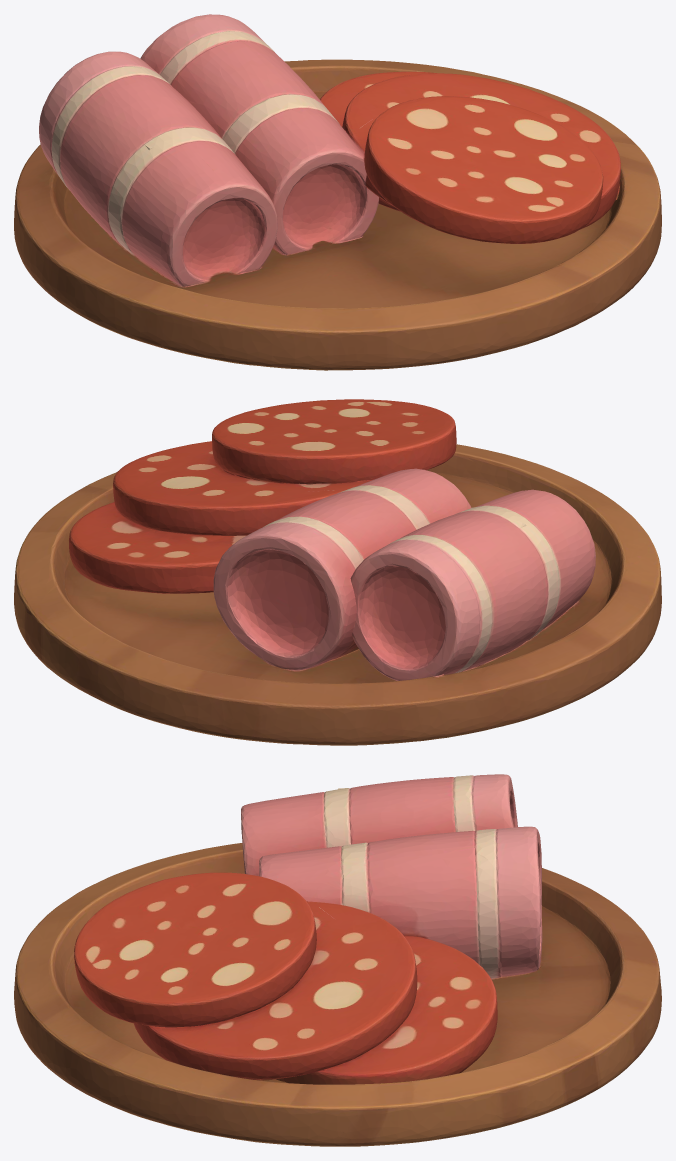
The model's file is meal_1.glb.
The picture shows the model from 3 angles, top to bottom: view 1: azimuth 30°, elevation 25°; view 2: azimuth 150°, elevation 25°; view 3: azimuth 270°, elevation 25°; orthographic projection.
Parts seen in each view (by area): view 1: tripo_node_47fb2e98-eb90-477f-8c4e-49da6996df89; view 2: tripo_node_47fb2e98-eb90-477f-8c4e-49da6996df89; view 3: tripo_node_47fb2e98-eb90-477f-8c4e-49da6996df89.
Part boxes in pixels (x1,y1,x2,y2): tripo_node_47fb2e98-eb90-477f-8c4e-49da6996df89: (14, 14, 661, 370); tripo_node_47fb2e98-eb90-477f-8c4e-49da6996df89: (14, 399, 661, 745); tripo_node_47fb2e98-eb90-477f-8c4e-49da6996df89: (14, 774, 661, 1146).
Size of the model in its own units: 0.9991 by 0.2755 by 1.
Materials: 1 (1 with a texture image).
